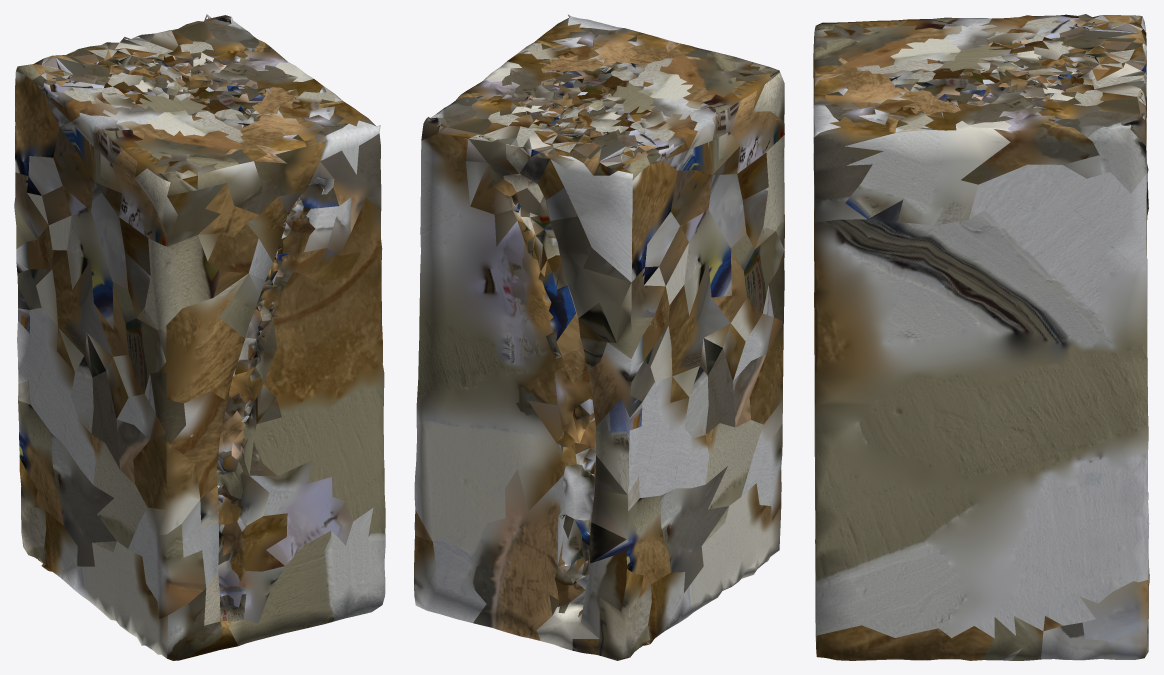
File: nobook1.fbx
The picture shows the model from 3 angles, left to right: view 1: azimuth 30°, elevation 25°; view 2: azimuth 150°, elevation 25°; view 3: azimuth 270°, elevation 25°; orthographic projection. The views are drawn at different scales.
Parts seen in each view (by area): view 1: book1.002; view 2: book1.002; view 3: book1.002.
Part boxes in pixels (x1,y1,x2,y2): book1.002: (14, 14, 385, 660); book1.002: (414, 14, 784, 660); book1.002: (813, 14, 1149, 660).
Size of the model in its own units: 173 by 369 by 208.
